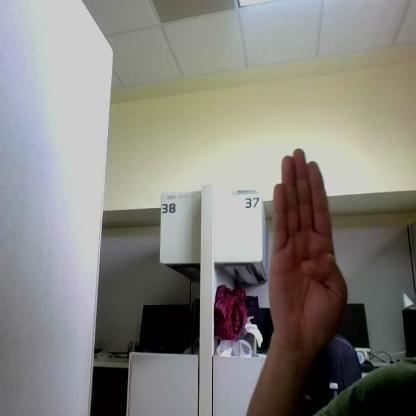B: (269, 148, 347, 342)
